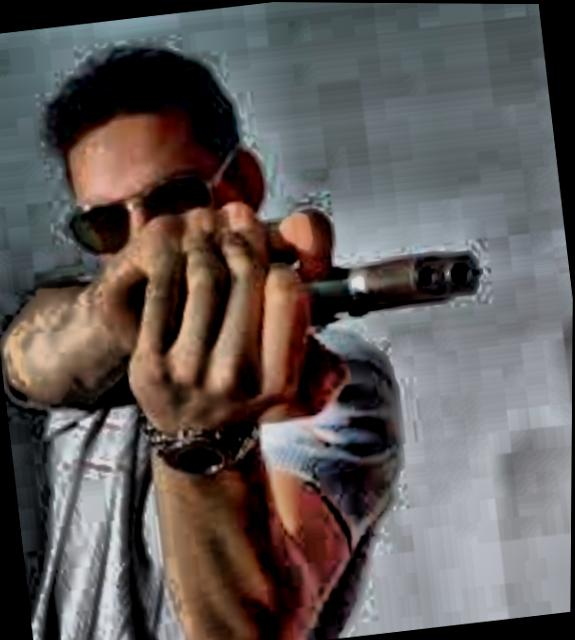pistol: (211, 223, 490, 345)
